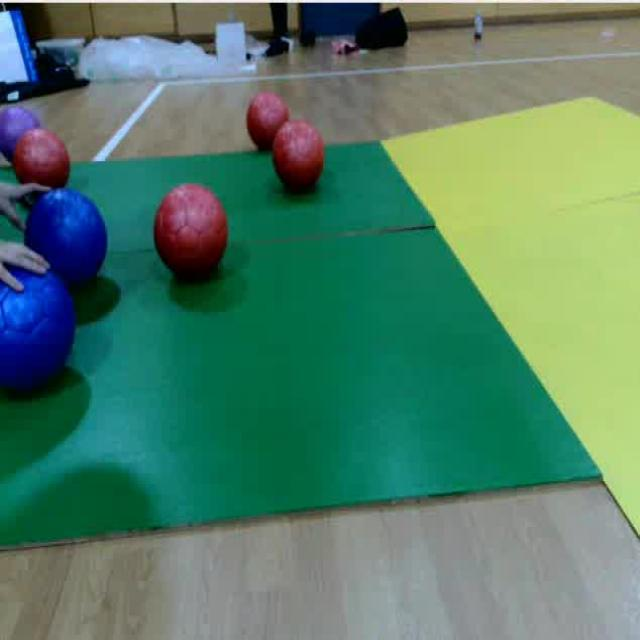blue_ball: (0, 265, 79, 403), (20, 188, 107, 298)
purple_ball: (0, 101, 37, 136)
red_ball: (153, 178, 230, 284), (272, 117, 328, 196), (13, 133, 73, 190), (246, 92, 289, 150)
